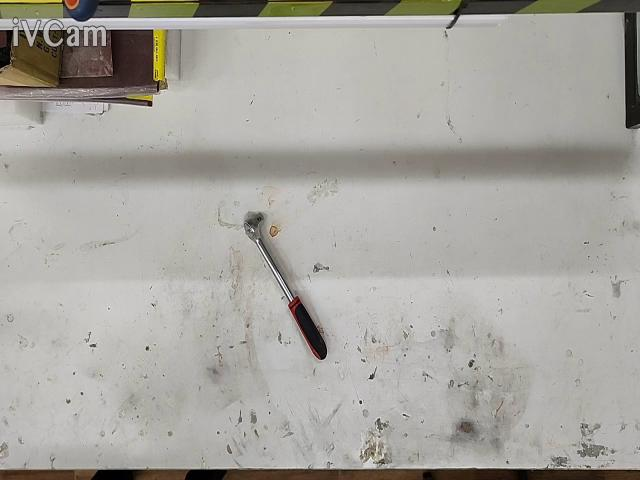Ratchet: (243, 213, 328, 360)
